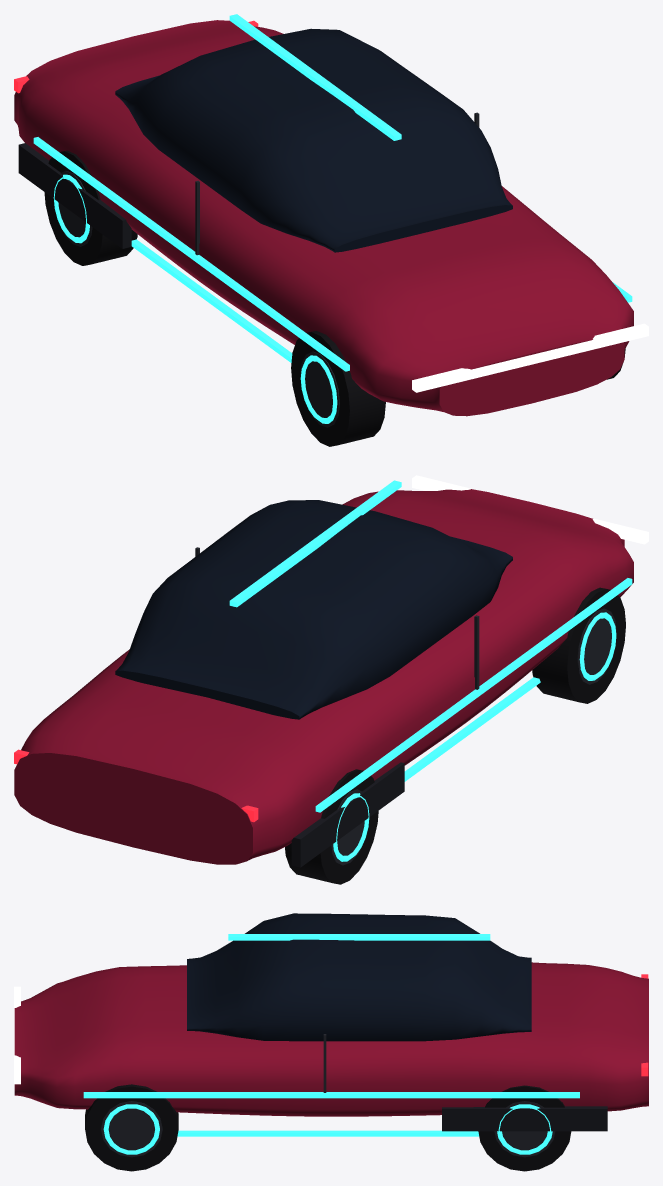
The model's file is tr_sedan.glb.
The picture shows the model from 3 angles, top to bottom: view 1: azimuth 30°, elevation 25°; view 2: azimuth 150°, elevation 25°; view 3: azimuth 270°, elevation 25°; orthographic projection. The views are drawn at different scales.
Parts seen in each view (by area): view 1: paint, glass, neon, rubber, paint2, light_head, trim; view 2: paint, glass, neon, rubber, paint2, trim, light_head; view 3: paint, glass, neon, rubber, paint2, trim, light_head.
Boxes of the visible parts, left/top/right/bottom form: paint: left=14, top=20, right=633, bottom=416; glass: left=115, top=28, right=512, bottom=252; neon: left=33, top=14, right=632, bottom=423; rubber: left=44, top=150, right=625, bottom=446; paint2: left=18, top=143, right=131, bottom=248; light_head: left=412, top=323, right=648, bottom=392; trim: left=58, top=112, right=479, bottom=427; paint: left=14, top=489, right=633, bottom=864; glass: left=115, top=500, right=512, bottom=719; neon: left=229, top=480, right=632, bottom=861; rubber: left=285, top=587, right=625, bottom=884; paint2: left=291, top=762, right=404, bottom=867; trim: left=195, top=547, right=616, bottom=865; light_head: left=412, top=475, right=648, bottom=544; paint: left=14, top=962, right=648, bottom=1116; glass: left=187, top=913, right=531, bottom=1041; neon: left=83, top=934, right=579, bottom=1154; rubber: left=85, top=1084, right=571, bottom=1171; paint2: left=442, top=1106, right=607, bottom=1131; trim: left=101, top=1034, right=555, bottom=1157; light_head: left=14, top=986, right=20, bottom=1084.
Bounding box in the file's own units: 1.91 × 1.46 × 4.61.
